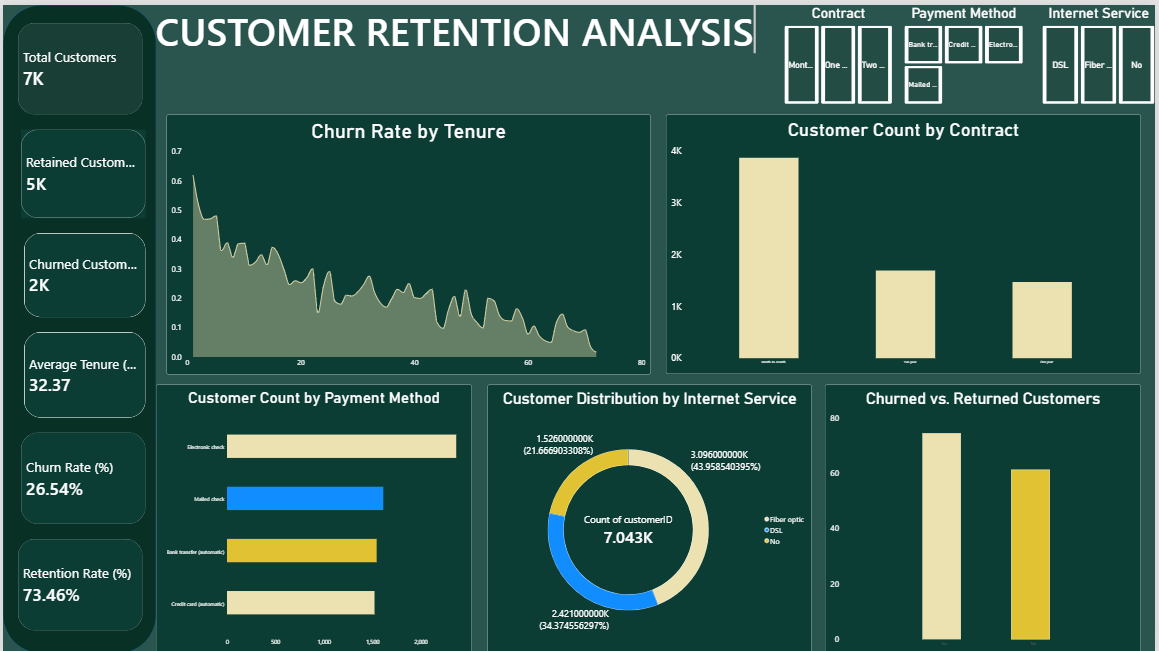

Layout of this report page (visuals, bound fields, positions):
{"tool":"powerbi","page":{"name":"Page 1","canvas":[3840,2160],"ordinal":0},"visuals":[{"type":"textbox","box":[0,0,2510,165],"z":0},{"type":"shape","box":[0,0,510.6,2161.6],"z":1000},{"type":"cardVisual","fields":{"Data":["Telco_Customer_Churn_Cleaned.Total Customers"]},"box":[52.5,62,415.1,305.4],"z":2000},{"type":"cardVisual","fields":{"Data":["Telco_Customer_Churn_Cleaned.Retained Customers"]},"box":[62,416.1,415.1,295.9],"z":3000},{"type":"cardVisual","fields":{"Data":["Telco_Customer_Churn_Cleaned.Churned Customers"]},"box":[71.6,760.6,405.6,281.5],"z":4000},{"type":"cardVisual","fields":{"Data":["Telco_Customer_Churn_Cleaned.Average Tenure (Months)"]},"box":[71.6,1090.8,405.6,286.3],"z":5000},{"type":"cardVisual","fields":{"Data":["Telco_Customer_Churn_Cleaned.Churn Rate (%)"]},"box":[62,1425.8,415.1,305.4],"z":6000},{"type":"cardVisual","fields":{"Data":["Telco_Customer_Churn_Cleaned.Retention Rate (%)"]},"box":[52.5,1779.9,415.1,305.4],"z":7000},{"type":"clusteredColumnChart","title":"Customer Count by  Contract","fields":{"Category":["Telco_Customer_Churn_Cleaned.Contract"],"Y":["CountNonNull(Telco_Customer_Churn_Cleaned.customerID)"]},"box":[2211.8,364.7,1582.4,864.7],"z":8000},{"type":"donutChart","title":"Customer Distribution by Internet Service","fields":{"Category":["Telco_Customer_Churn_Cleaned.InternetService"],"Y":["CountNonNull(Telco_Customer_Churn_Cleaned.customerID)"]},"box":[1614.3,1266.7,1081,895.2],"z":9000},{"type":"lineChart","title":"Churn Rate by Tenure","fields":{"Category":["Telco_Customer_Churn_Cleaned.tenure"],"Y":["Telco_Customer_Churn_Cleaned.Churn Rate (%)"]},"box":[542.9,366.7,1614.3,866.7],"z":10000},{"type":"clusteredBarChart","title":"Customer Count by Payment Method","fields":{"Category":["Telco_Customer_Churn_Cleaned.PaymentMethod"],"Y":["CountNonNull(Telco_Customer_Churn_Cleaned.customerID)"]},"box":[509.5,1266.7,1052.4,895.2],"z":10001},{"type":"clusteredColumnChart","title":"Churned vs. Returned Customers","fields":{"Category":["Telco_Customer_Churn_Cleaned.Churn"],"Y":["Avg(Telco_Customer_Churn_Cleaned.MonthlyCharges)"]},"box":[2741.2,1264.7,1052.9,900],"z":10002},{"type":"advancedSlicerVisual","fields":{"Values":["Telco_Customer_Churn_Cleaned.Contract"]},"box":[2605,0,360,330],"z":10003},{"type":"advancedSlicerVisual","title":"Payment Method","fields":{"Values":["Telco_Customer_Churn_Cleaned.PaymentMethod"]},"box":[3005,0,395,330],"z":10004},{"type":"advancedSlicerVisual","title":"Internet Service","fields":{"Values":["Telco_Customer_Churn_Cleaned.InternetService"]},"box":[3465,0,375,330],"z":10005}]}

Visuals, with their boxes in screenshot pixels (x1, y1, x2, y2), scaled from the page's 3840x2160 canvas onto the 1159x651 screenshot:
textbox: [0,0,758,50]
shape: [0,0,154,650]
cardVisual - Telco_Customer_Churn_Cleaned.Total Customers: [16,19,141,111]
cardVisual - Telco_Customer_Churn_Cleaned.Retained Customers: [19,125,144,215]
cardVisual - Telco_Customer_Churn_Cleaned.Churned Customers: [22,229,144,314]
cardVisual - Telco_Customer_Churn_Cleaned.Average Tenure (Months): [22,329,144,415]
cardVisual - Telco_Customer_Churn_Cleaned.Churn Rate (%): [19,430,144,522]
cardVisual - Telco_Customer_Churn_Cleaned.Retention Rate (%): [16,536,141,628]
"Customer Count by  Contract" clusteredColumnChart: [668,110,1145,371]
"Customer Distribution by Internet Service" donutChart: [487,382,814,650]
"Churn Rate by Tenure" lineChart: [164,111,651,372]
"Customer Count by Payment Method" clusteredBarChart: [154,382,471,650]
"Churned vs. Returned Customers" clusteredColumnChart: [827,381,1145,650]
advancedSlicerVisual - Telco_Customer_Churn_Cleaned.Contract: [786,0,895,99]
"Payment Method" advancedSlicerVisual: [907,0,1026,99]
"Internet Service" advancedSlicerVisual: [1046,0,1158,99]
